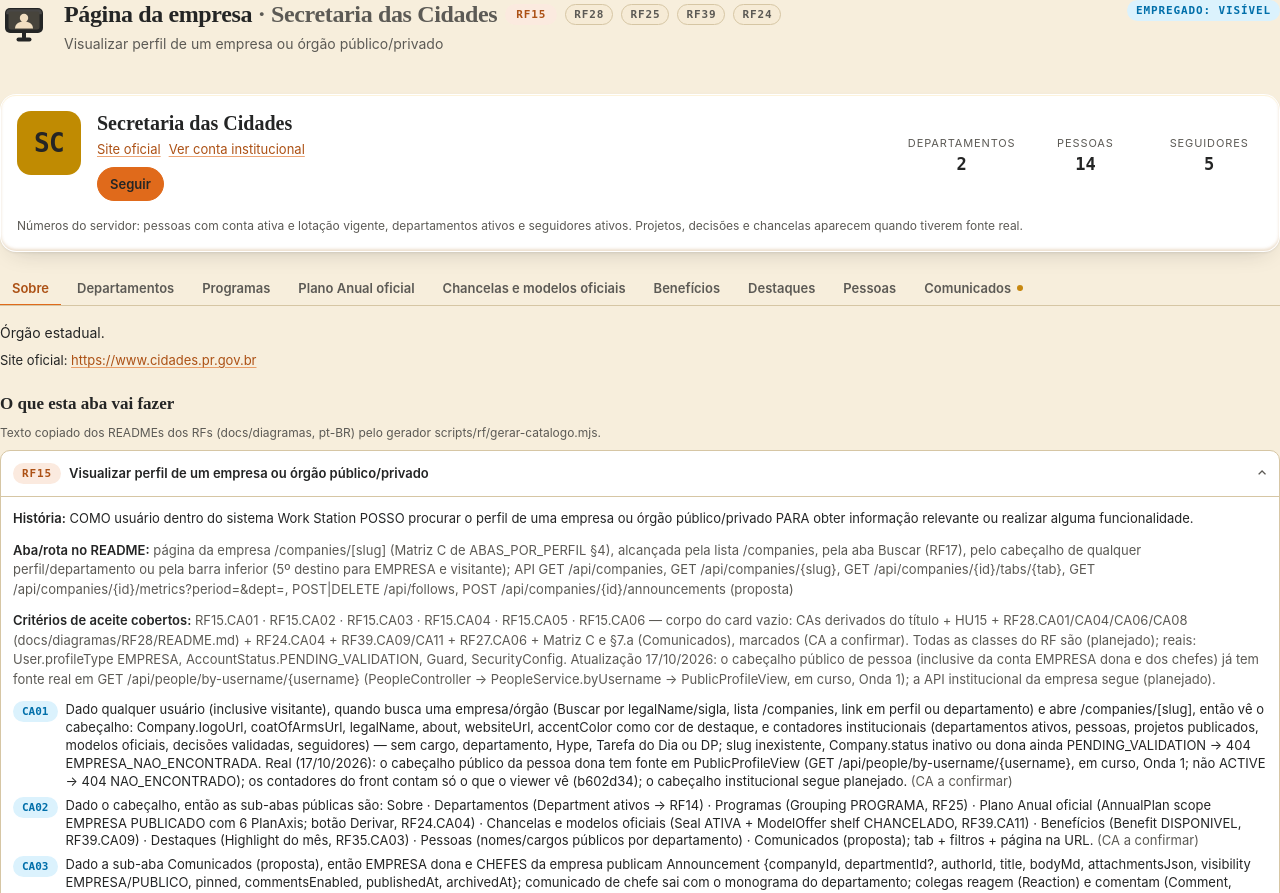
Scenario: página da empresa com dados reais (RF15) › cabeçalho com nome em h2, site oficial, conta institucional e contadores reais; seguir a empresa
Expected: the heading "Secretaria das Cidades" is shown, top-left (97, 111), bottom-right (305, 136)
Expected: the text "2" is shown, top-left (957, 154), bottom-right (967, 174)
Click the button with test id "follow-institution" at (130, 184), box top-left (97, 167), bottom-right (164, 201)
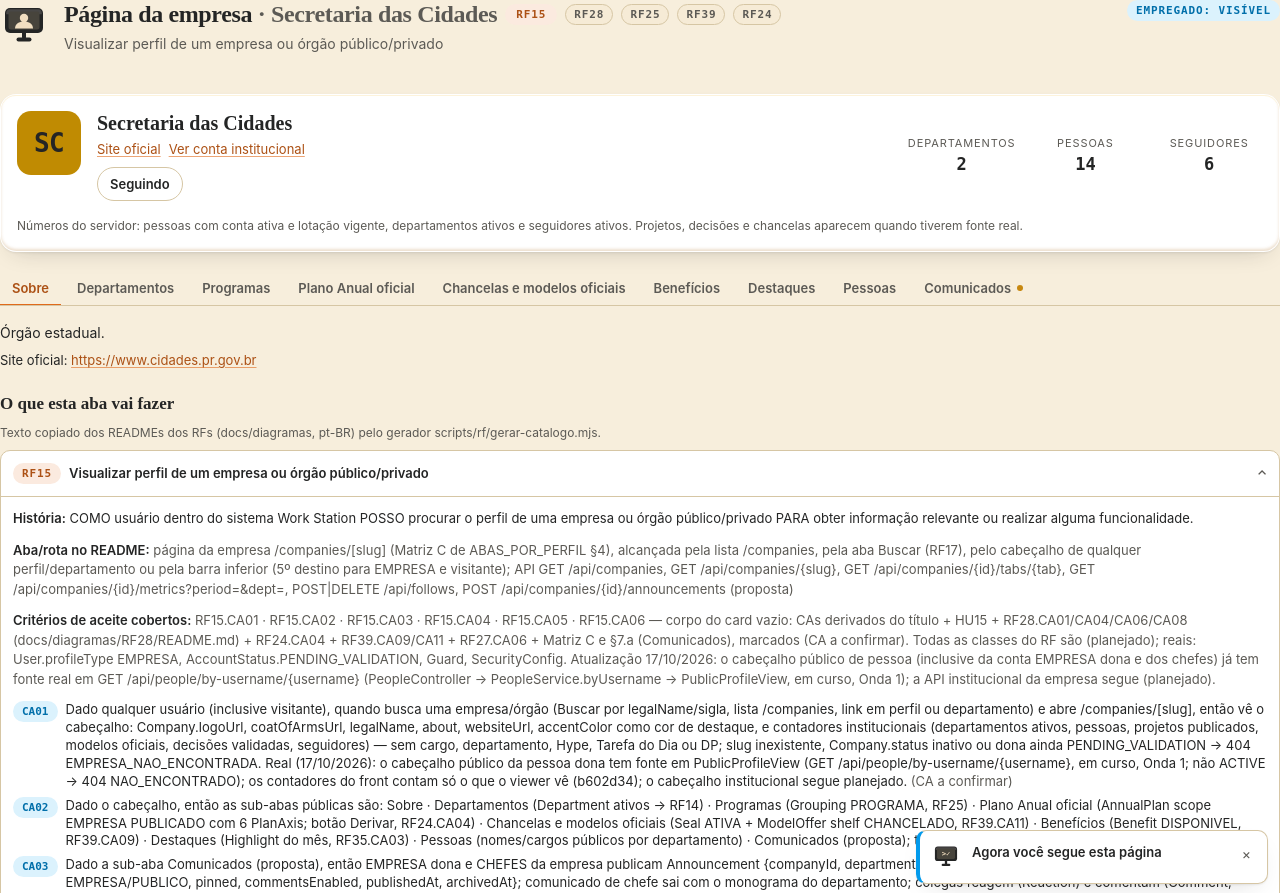
Expected: the text "6" is shown, top-left (1204, 154), bottom-right (1214, 174)
